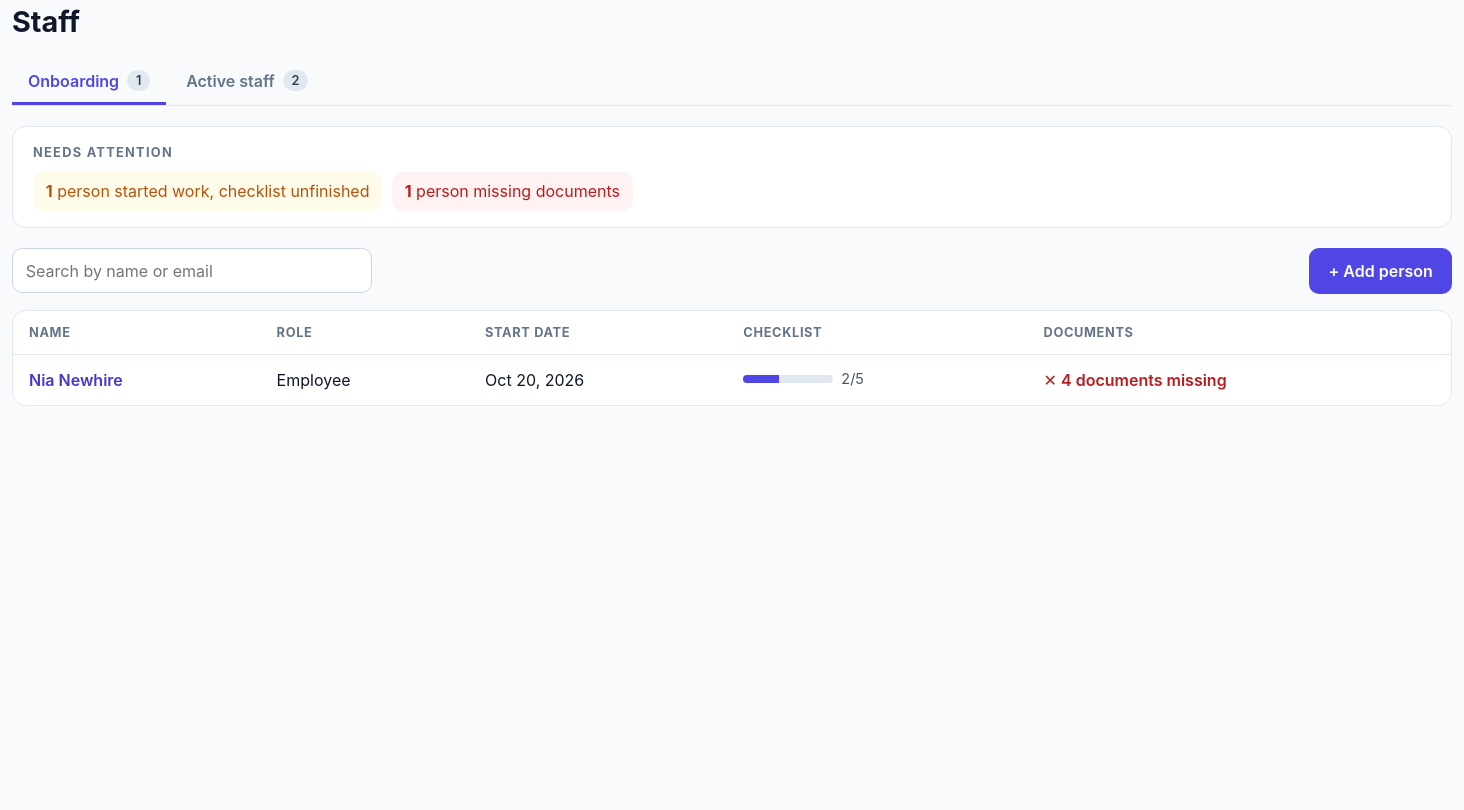
Test case: Dashboard › adding a person › adds someone and shows them on the right tab
This screenshot has width=1464, height=810.
Click the button "+ Add person". click: (1381, 271)
box: [1309,248,1452,294]
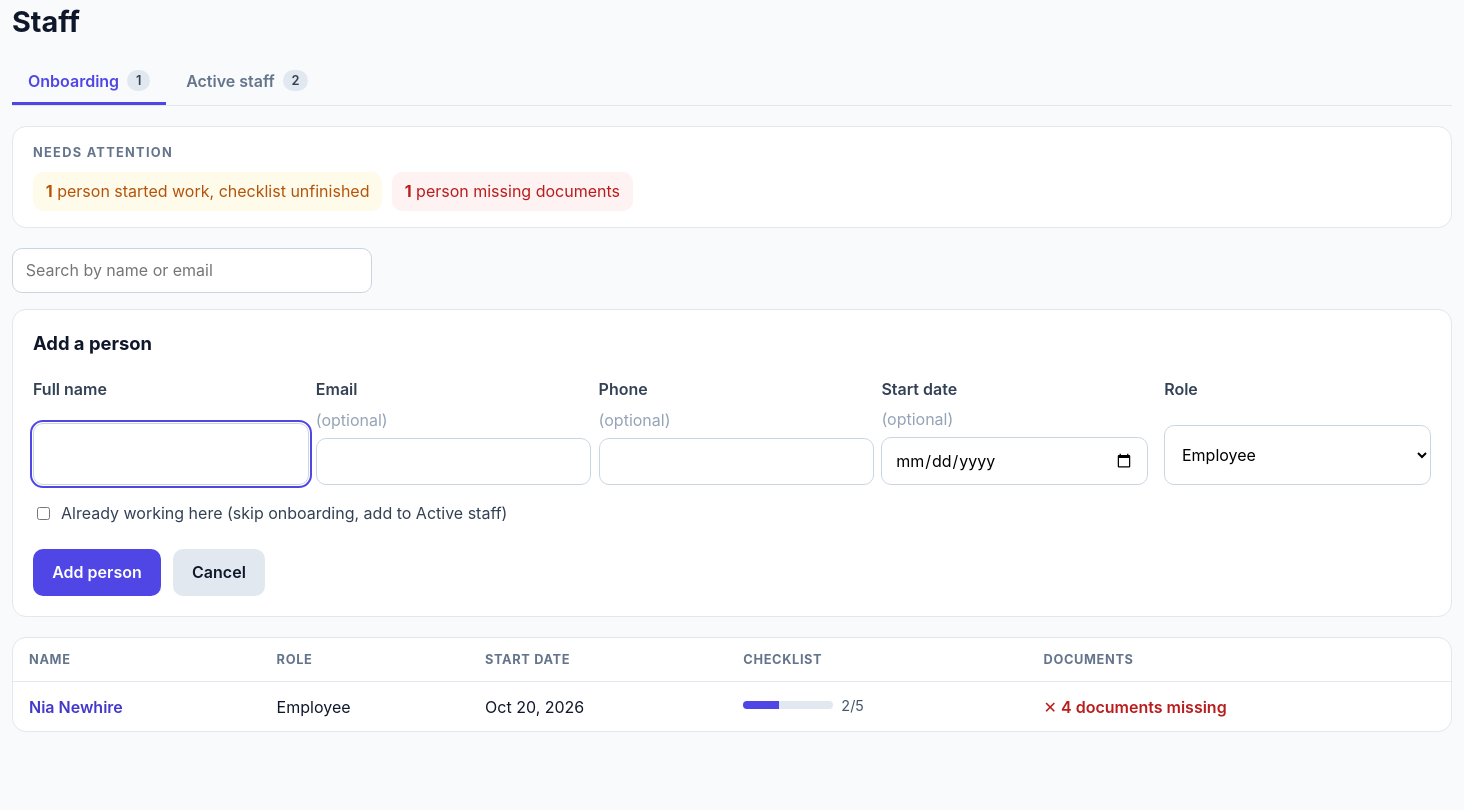
Type "Pat New" into the field labelled "Full name". click: (171, 454)
box: [33,423,309,485]
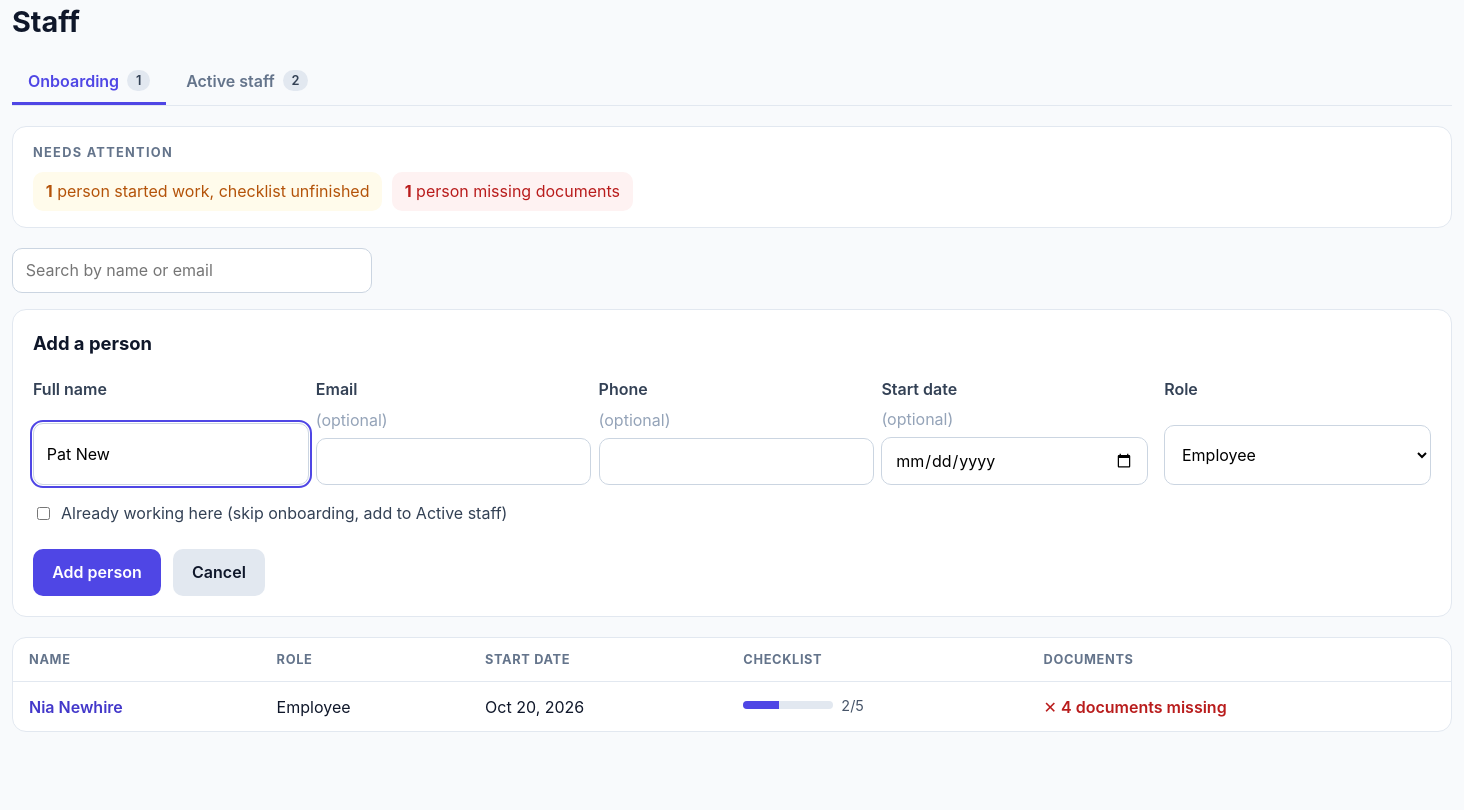
Type "pat@example.com" into the field labelled "Email (optional)". click: (454, 462)
box: [316,438,591,485]
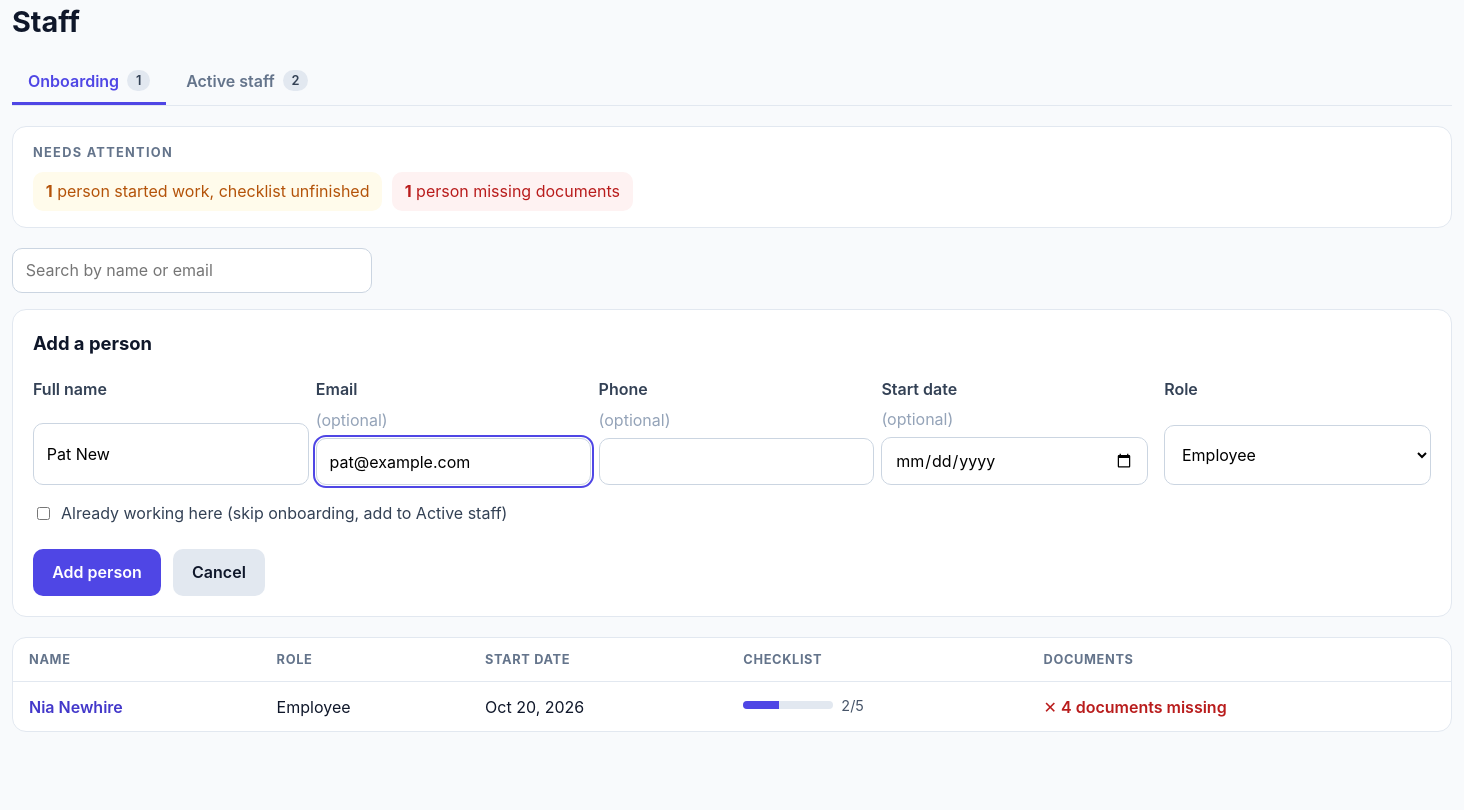
Click the checkbox labelled "Already working here (skip onboarding, add to Active staff)". click: (44, 513)
box: [37,507,50,520]
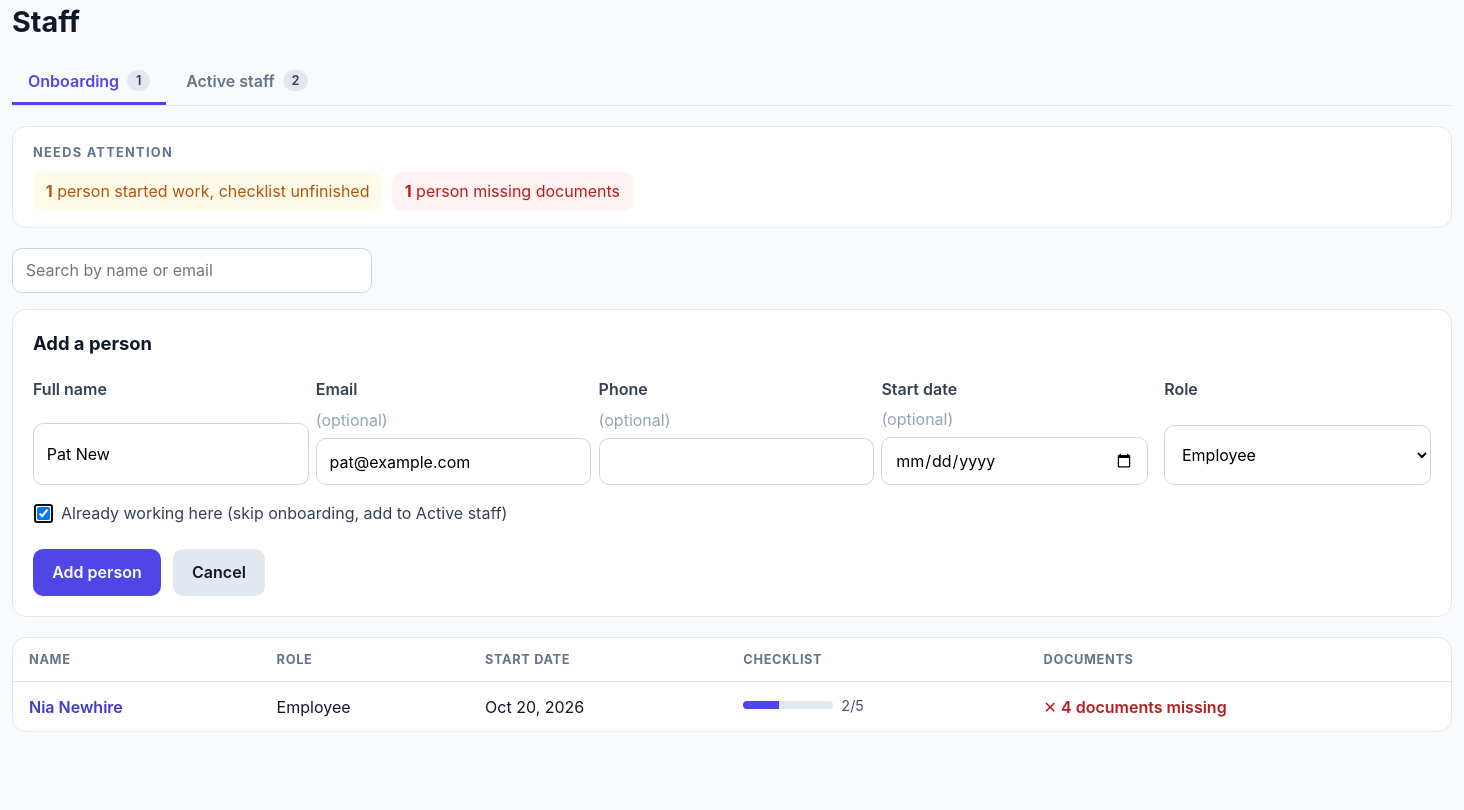
Click the button "Add person". click: (97, 572)
box: [33,549,161,596]
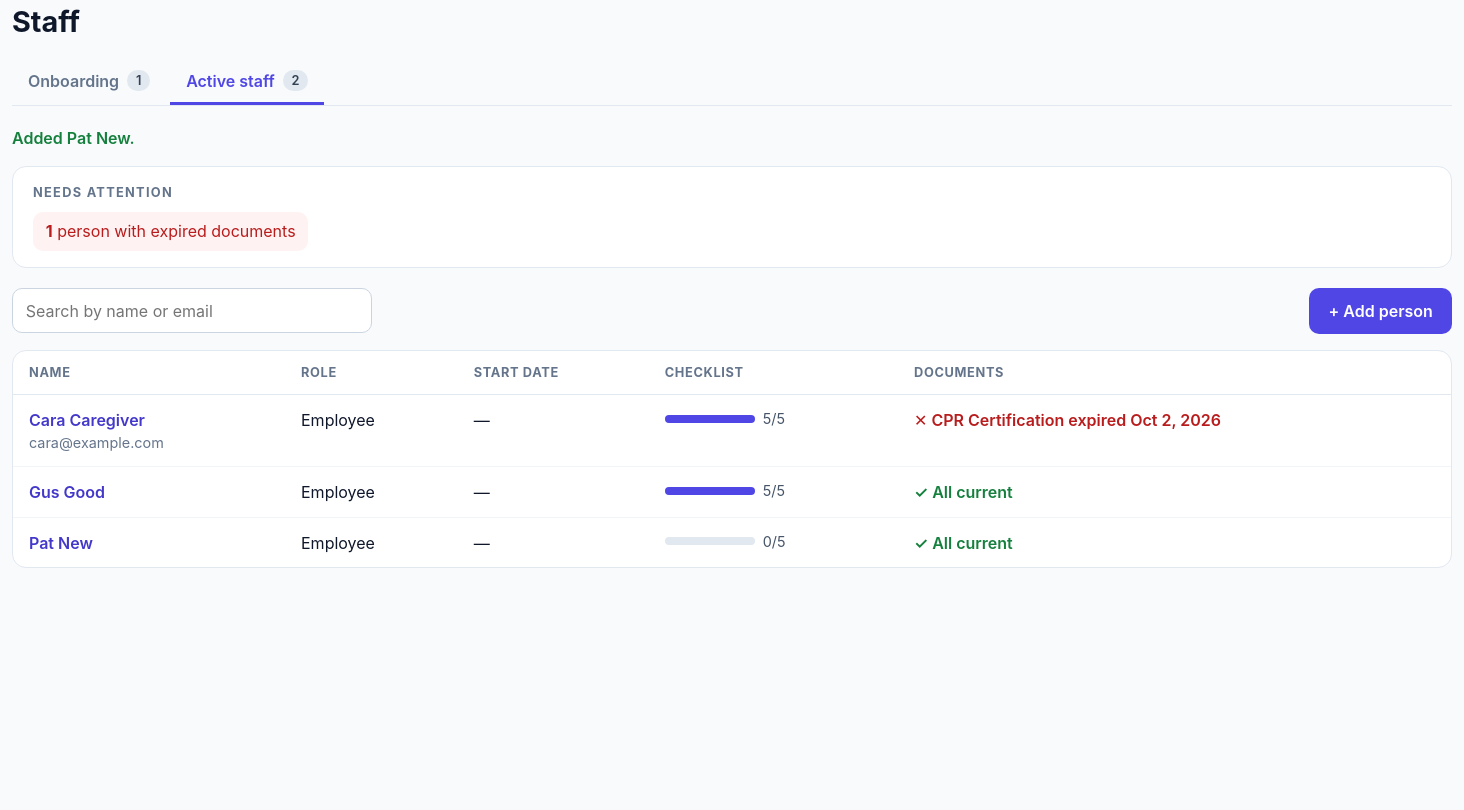
Check: the message reads "Added Pat New.", box [12,128,135,148]
Check: the link "Pat New" is shown, box [29,531,93,555]
Check: the heading "Add a person" is gone
